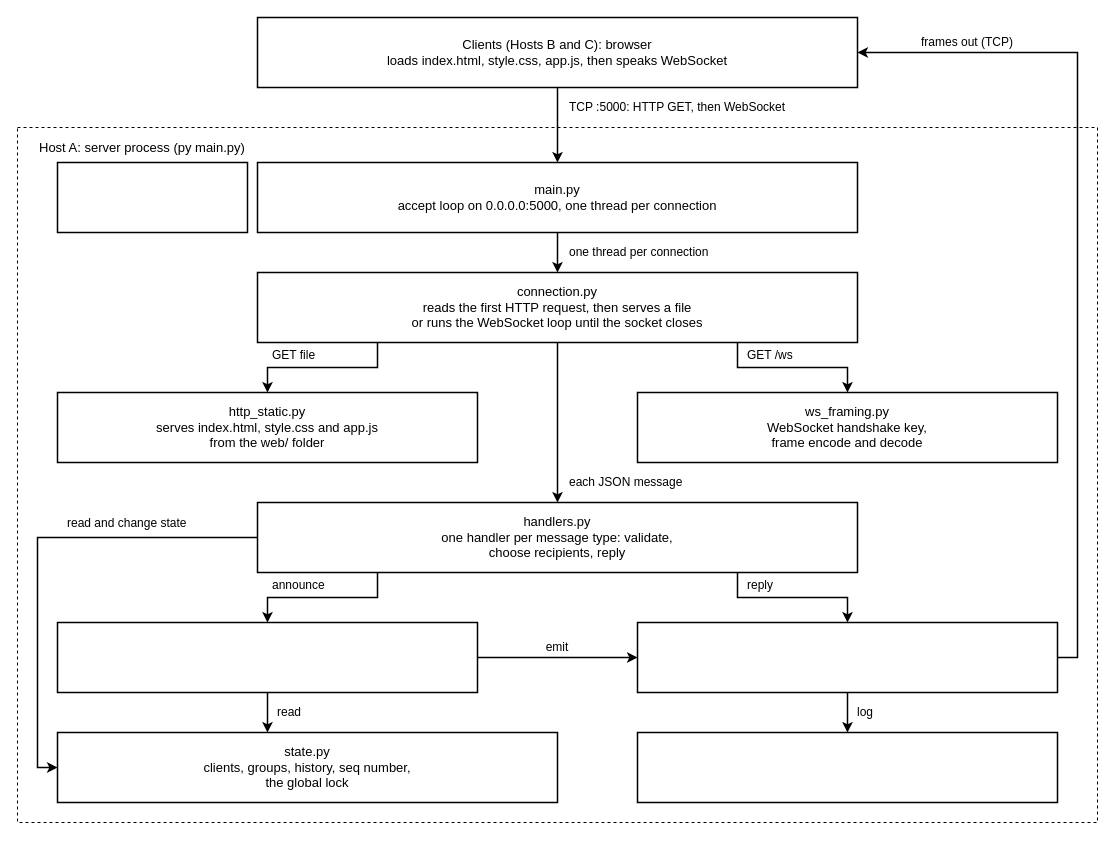
This 1115x841 diagram has some shape labels left out. The box of each missing label's shape, as (x1, y1, x2, y2) in pixels:
broadcast.py USER_LIST, GROUP_LIST, PRESENCE, HISTORY: (56, 621, 478, 693)
config.py settings and limits (used by all modules): (56, 161, 248, 233)
logger.py timestamped log of every message to logs/server.log: (636, 731, 1058, 803)
outbox.py send, emit, error: JSON to frame to socket: (636, 621, 1058, 693)
